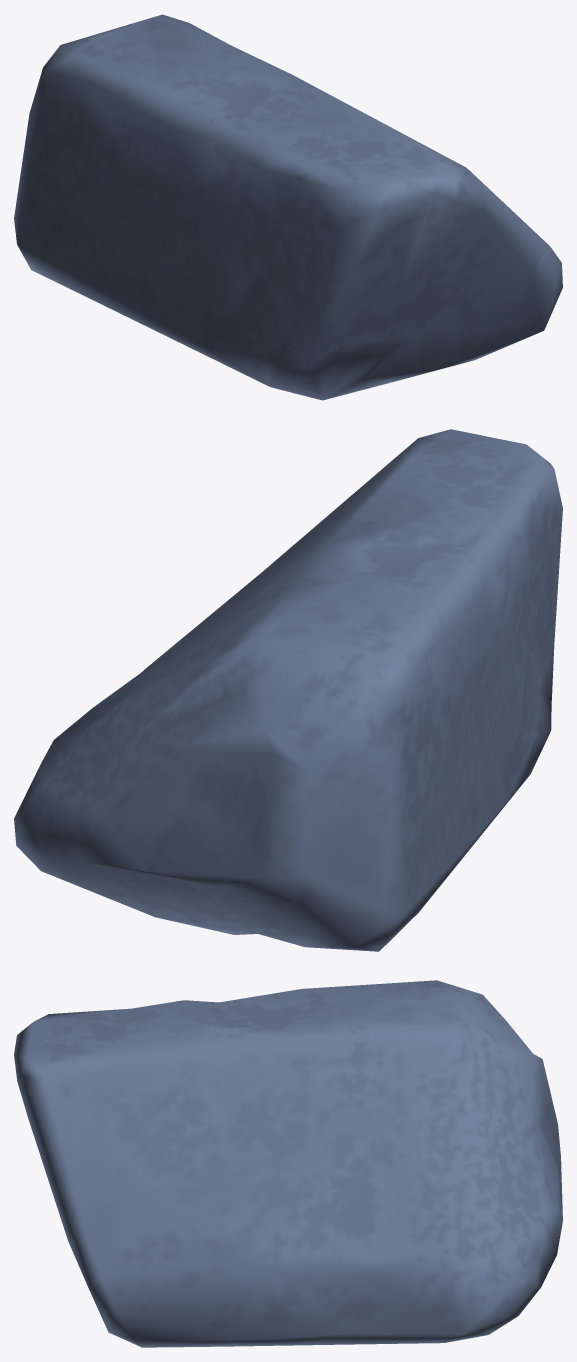
The model's file is SM_Stage_Final_Crack_03.fbx.
3 renders of one model, top to bottom at view 1: azimuth 30°, elevation 25°; view 2: azimuth 150°, elevation 25°; view 3: azimuth 270°, elevation 25°, orthographic. The views are drawn at different scales.
Parts seen in each view (by area): view 1: SM_Stage_Final_Crack_03; view 2: SM_Stage_Final_Crack_03; view 3: SM_Stage_Final_Crack_03.
Part boxes in pixels (x1=…): SM_Stage_Final_Crack_03: x1=14, y1=14, x2=562, y2=400; SM_Stage_Final_Crack_03: x1=14, y1=429, x2=562, y2=951; SM_Stage_Final_Crack_03: x1=14, y1=980, x2=562, y2=1347.
Bounding box in the file's own units: 29.16 × 19.8 × 41.2.
Materials: 1 (1 with a texture image).
